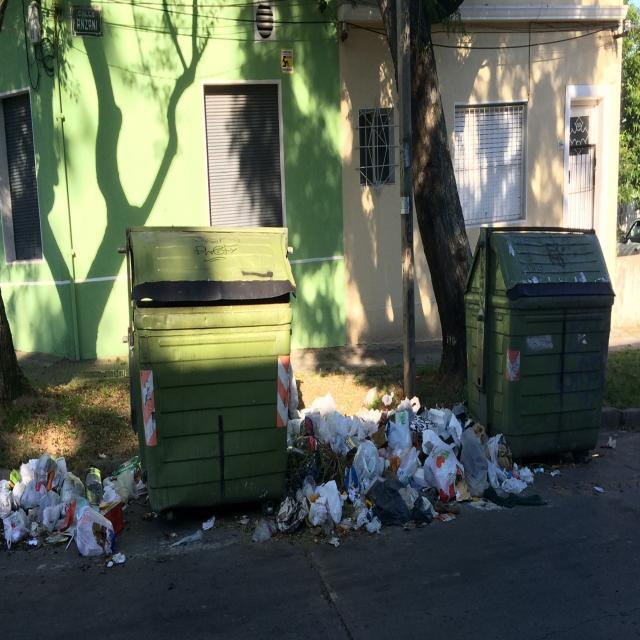garbage: (290, 392, 512, 527), (4, 443, 130, 576)
